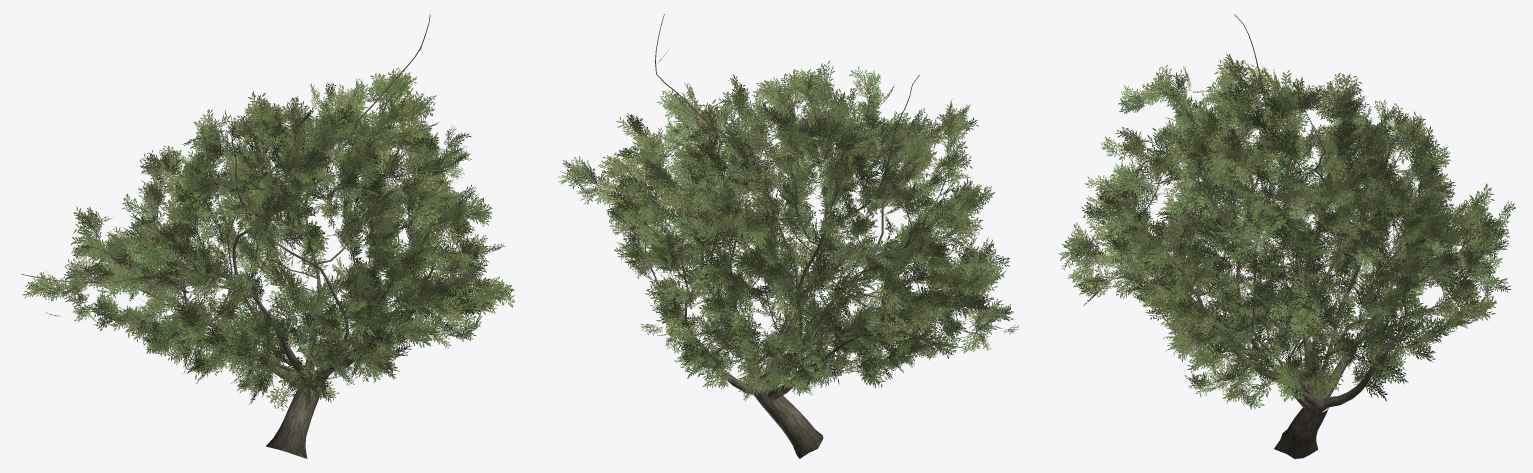
The model's file is vrba_stara.glb.
The picture shows the model from 3 angles, left to right: view 1: azimuth 30°, elevation 25°; view 2: azimuth 150°, elevation 25°; view 3: azimuth 270°, elevation 25°; orthographic projection. The views are drawn at different scales.
Parts seen in each view (by area): view 1: vrba_stara; view 2: vrba_stara; view 3: vrba_stara.
Part boxes in pixels (box(x1,y1,x2,y2)): vrba_stara: box(21, 14, 514, 458); vrba_stara: box(557, 14, 1019, 458); vrba_stara: box(1059, 14, 1515, 458).
Size of the model in its own units: 20.3 by 18.64 by 18.28.
Materials: 2 (2 with a texture image).
